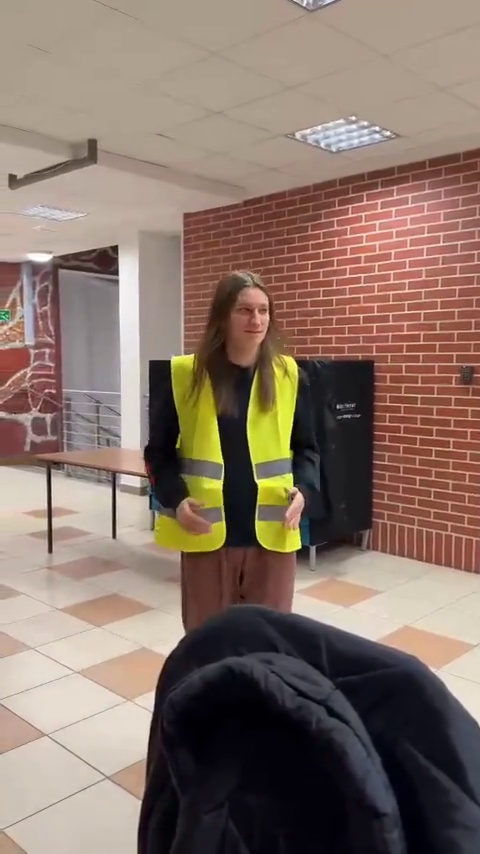vest: (146, 271, 330, 616)
